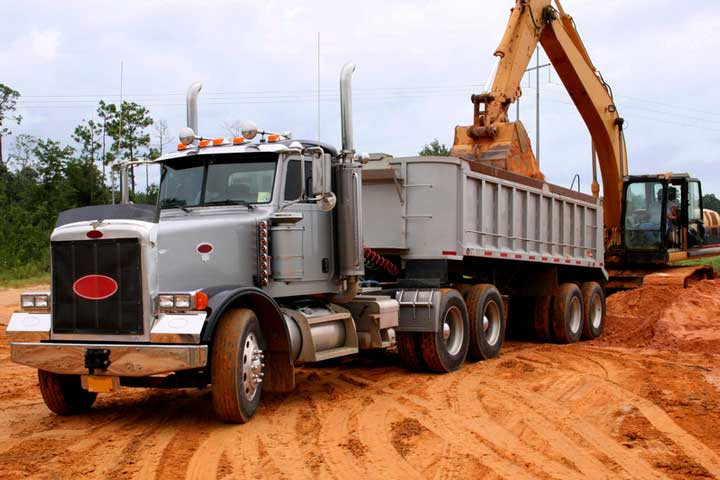backhoe: (450, 1, 720, 287)
truck: (6, 146, 589, 419)
